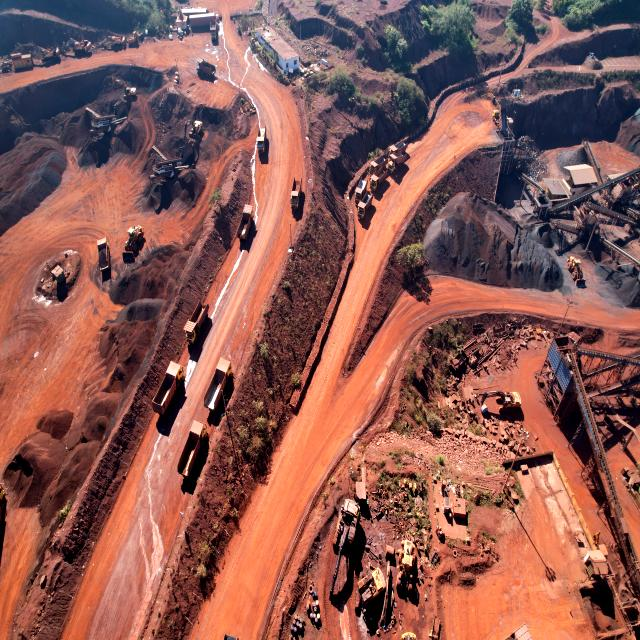Dumper truck: (150, 360, 183, 417), (180, 422, 210, 475), (203, 360, 232, 412), (185, 302, 210, 343), (237, 205, 254, 242), (290, 177, 302, 210), (358, 193, 373, 218), (98, 237, 109, 270), (197, 56, 215, 76), (387, 155, 407, 173), (370, 167, 385, 190), (355, 178, 368, 204), (255, 128, 267, 156), (211, 22, 218, 41)
Excavator: (323, 502, 361, 602), (480, 389, 522, 411), (110, 75, 136, 99), (63, 37, 91, 54), (99, 33, 124, 51), (33, 45, 60, 61), (184, 119, 203, 138)
